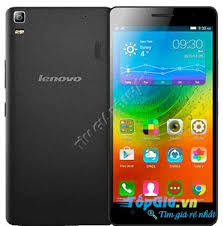lenovo: (107, 4, 218, 226), (1, 4, 112, 226)
